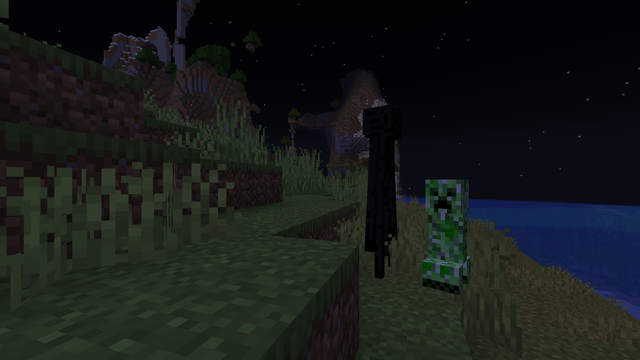creepers: (425, 174, 472, 292)
endermens: (361, 98, 400, 283)
